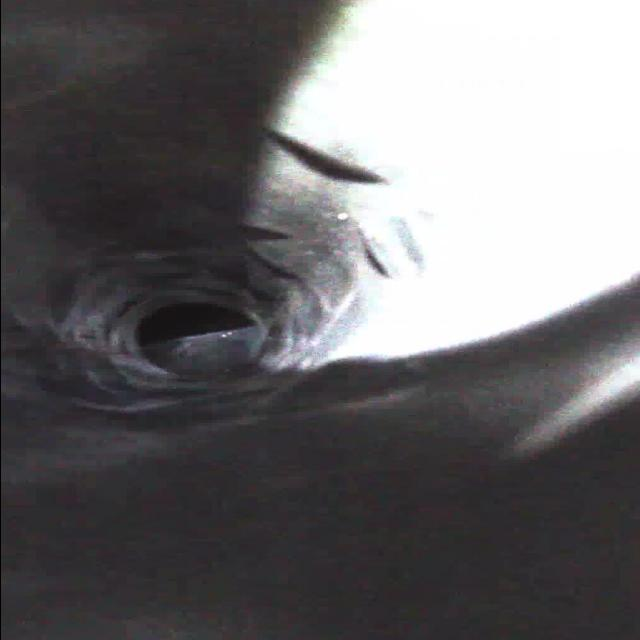crack: (236, 111, 394, 194), (31, 264, 118, 357), (328, 220, 413, 280), (150, 387, 266, 430)
